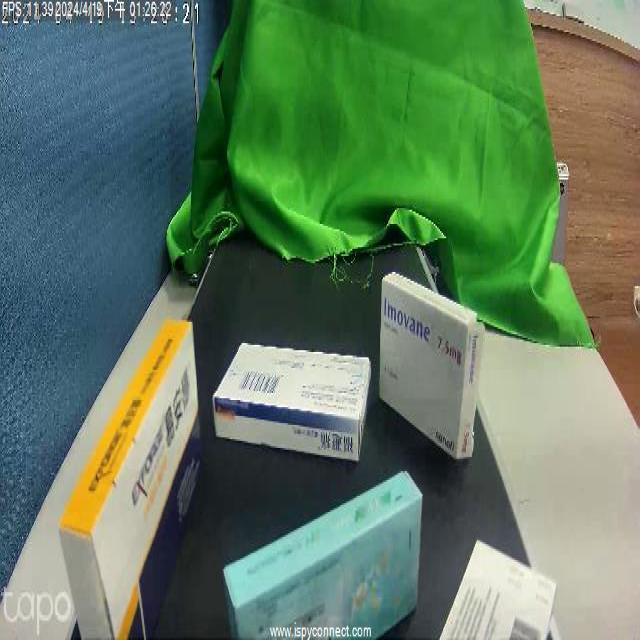box: (58, 315, 200, 640), (238, 488, 417, 640), (219, 340, 370, 466), (376, 291, 471, 447), (439, 556, 533, 640)
